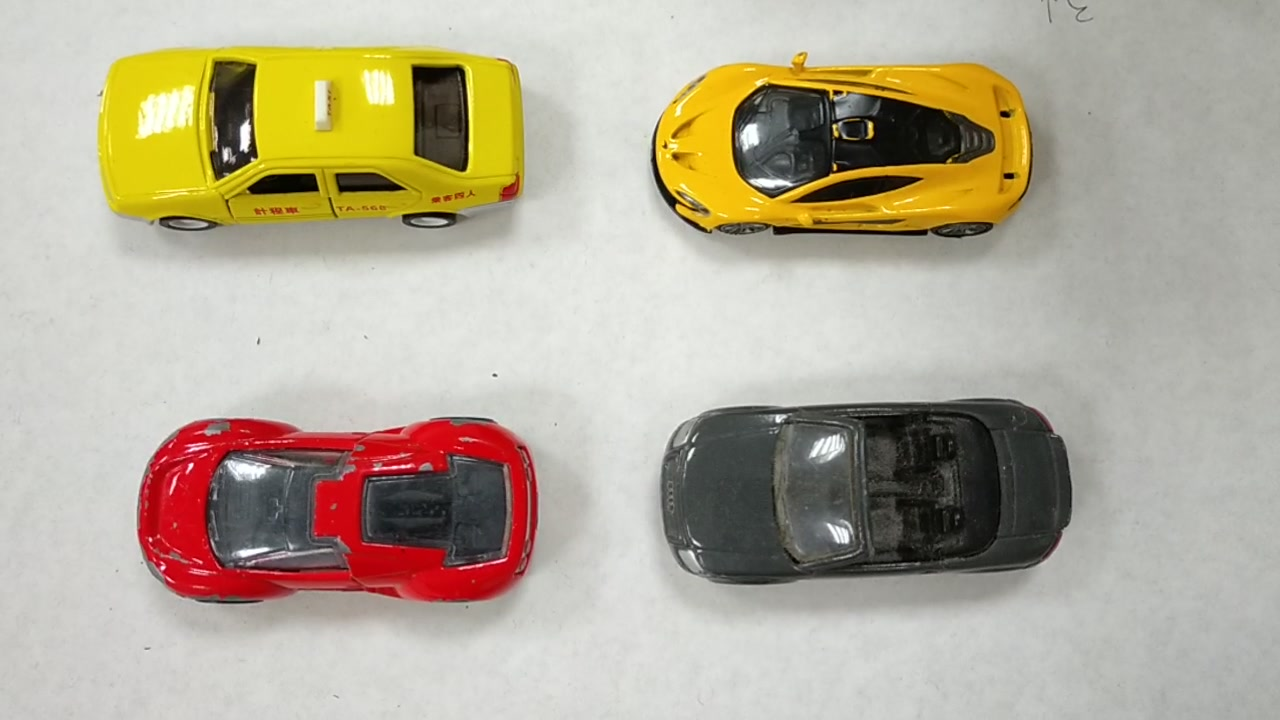car: (101, 47, 535, 233), (650, 56, 1033, 247), (131, 424, 540, 601), (665, 410, 1078, 584)
